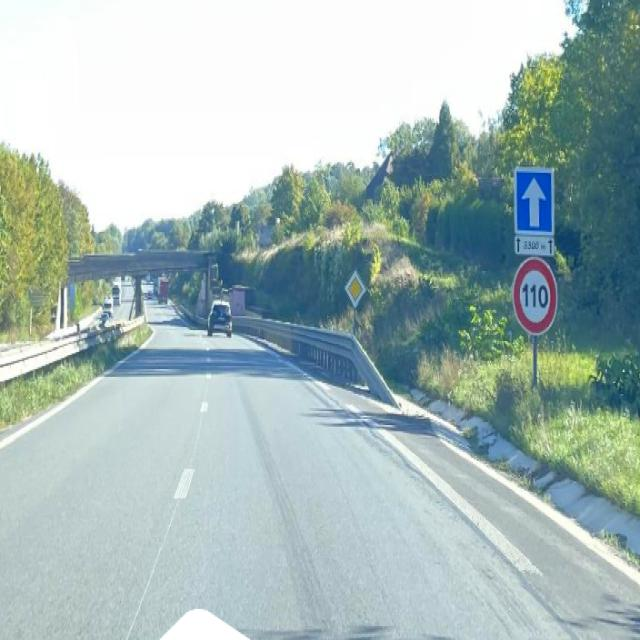speed_110: (514, 258, 558, 334)
